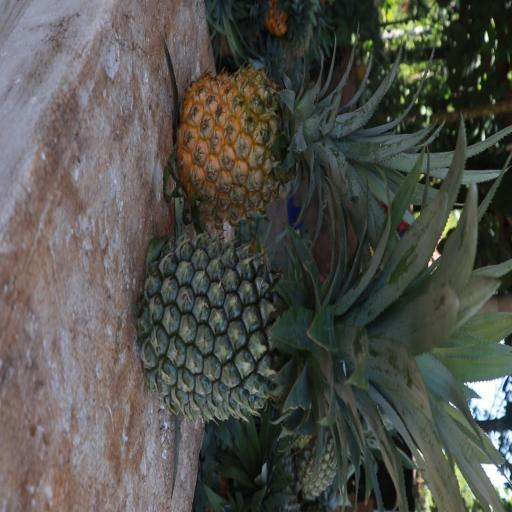Pineapple - v8 v1: (178, 68, 440, 206)
